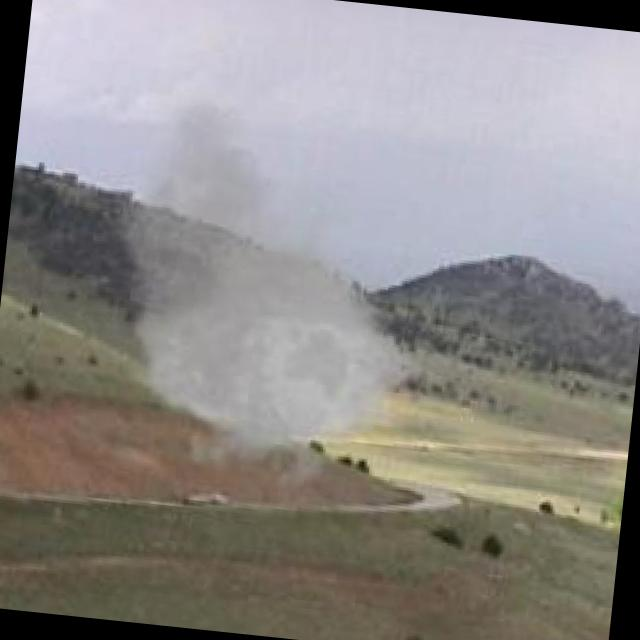Smoke: (80, 80, 488, 516)
